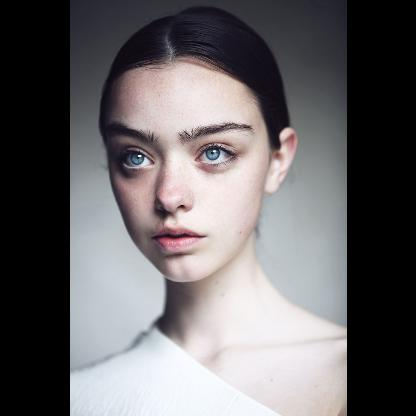Female: (110, 64, 296, 280)
